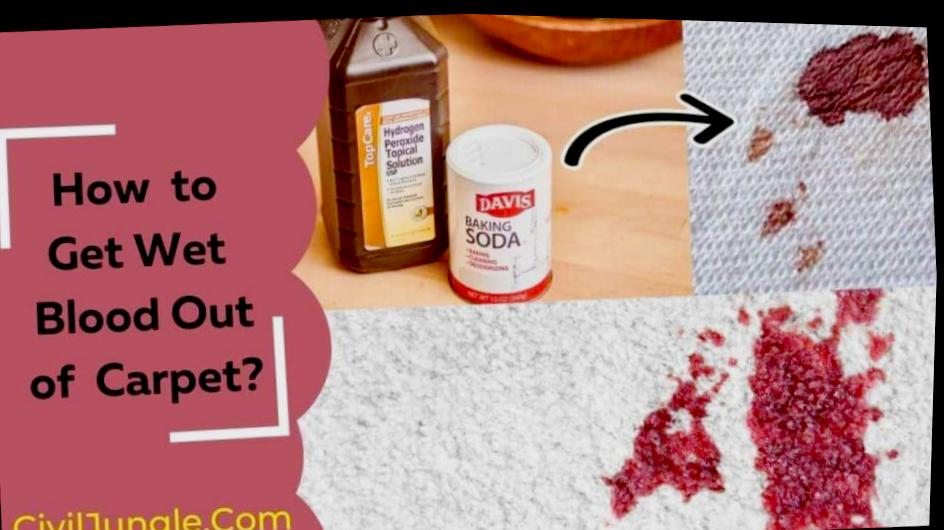Fire: (748, 281, 897, 527), (602, 372, 729, 515), (795, 23, 929, 122), (759, 197, 798, 237), (748, 118, 775, 156)
